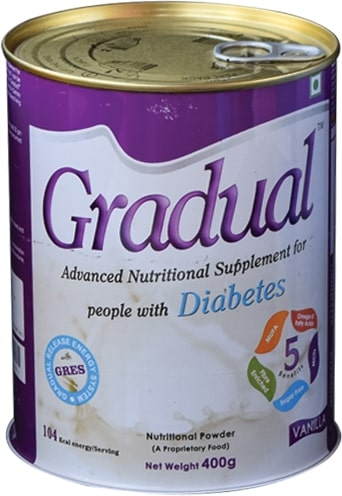metal: (1, 1, 342, 496)
